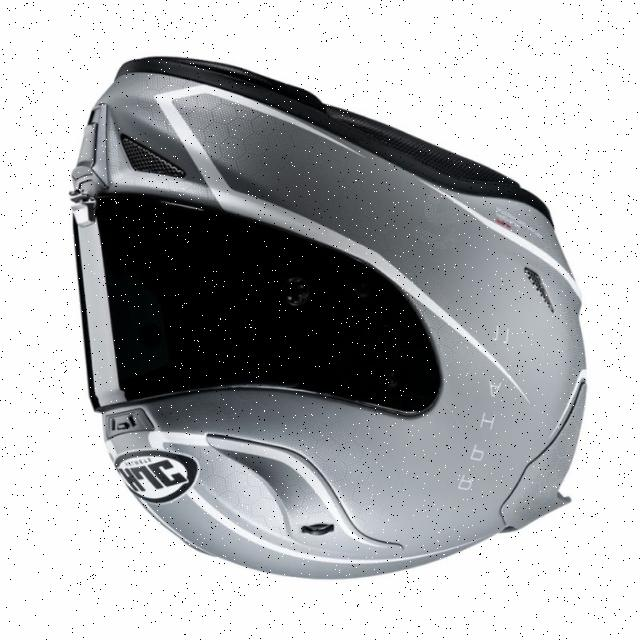Helmet: (71, 59, 586, 579)
